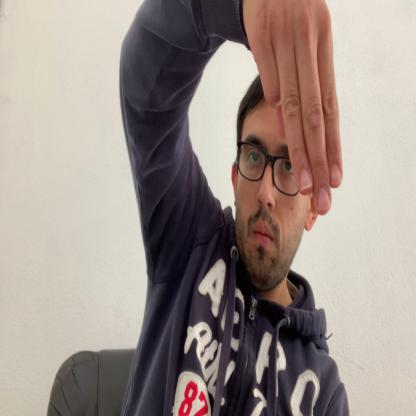M: (245, 0, 344, 218)
